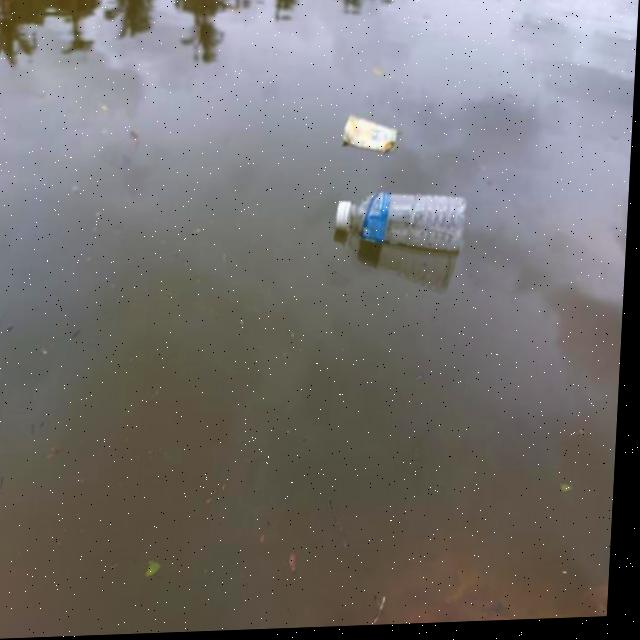paper: (332, 111, 414, 169)
waterbottle: (330, 178, 473, 266)
